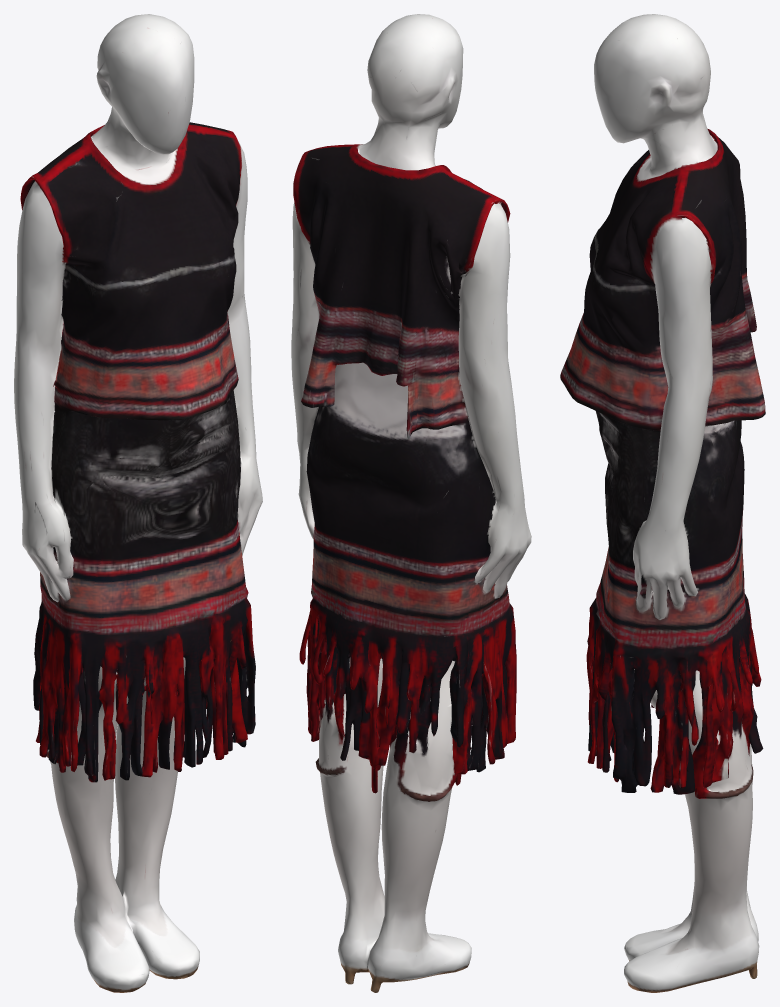
The picture shows the model from 3 angles, left to right: view 1: azimuth 30°, elevation 25°; view 2: azimuth 150°, elevation 25°; view 3: azimuth 270°, elevation 25°; orthographic projection. The views are drawn at different scales.
Size of the model in its own units: 0.2222 by 0.8896 by 0.1732.
Materials: 1 (1 with a texture image).
